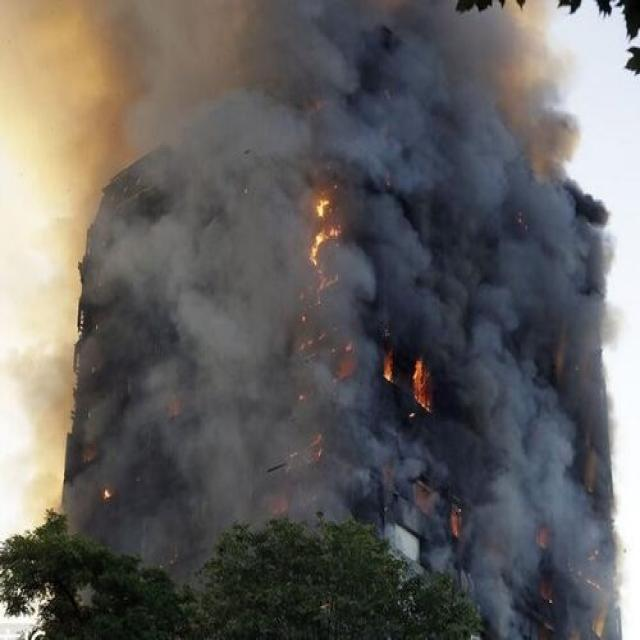Fire: (305, 182, 352, 290), (381, 342, 439, 409)
Smoke: (354, 0, 618, 640), (70, 0, 306, 540)
